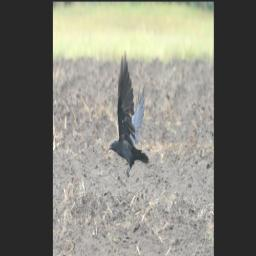Crow: (107, 49, 150, 180)
